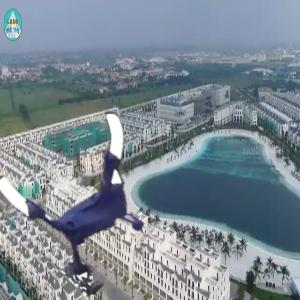drone: (14, 117, 168, 271)
